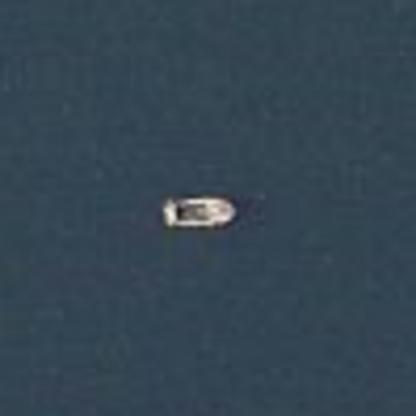ship: (150, 187, 248, 236)
